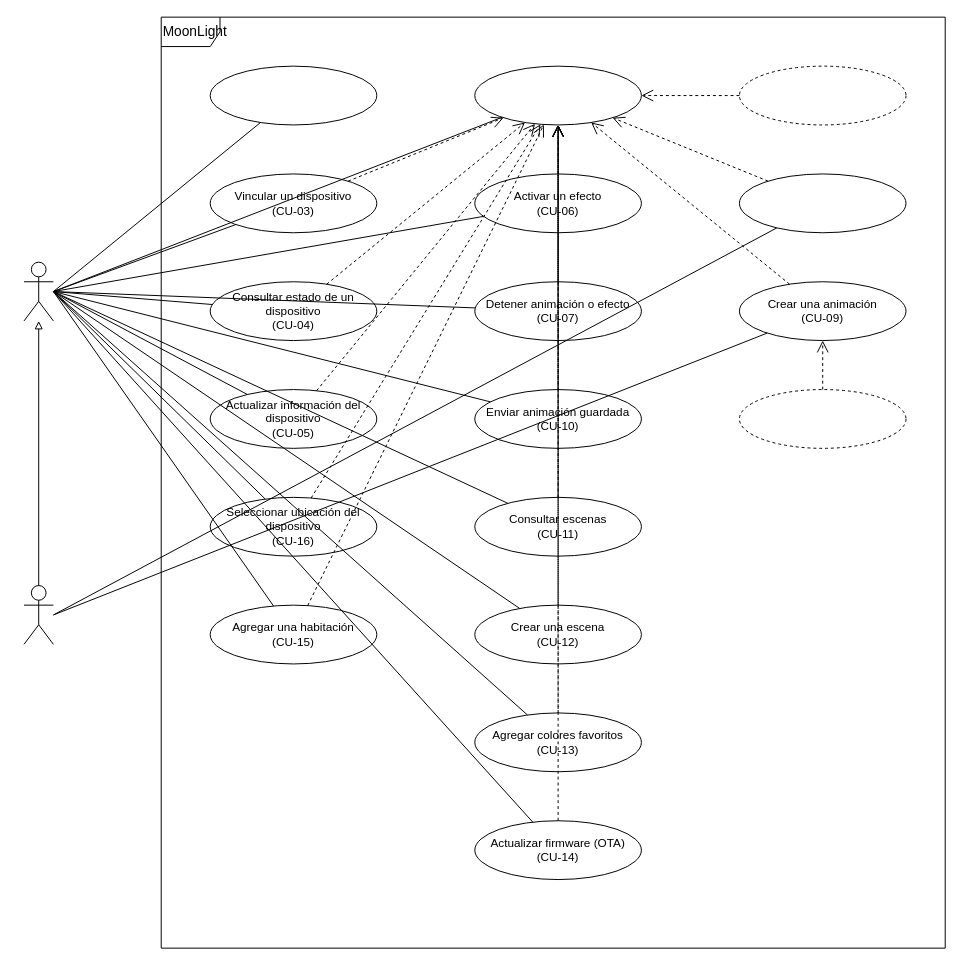
Image size: 962x965. Some labels were removed from this diagram. Each missing label, with the box of its shape:
Iniciar sesión (CU-02): (474, 65, 641, 125)
Maker: (23, 585, 53, 644)
Probar animación en el dispositivo: (738, 389, 906, 448)
Recuperar contraseña: (738, 65, 906, 125)
Registrar una cuenta (CU-01): (209, 65, 377, 125)
Transmitir animación en vivo (CU-08): (738, 173, 906, 233)
Usuario: (23, 261, 53, 321)
